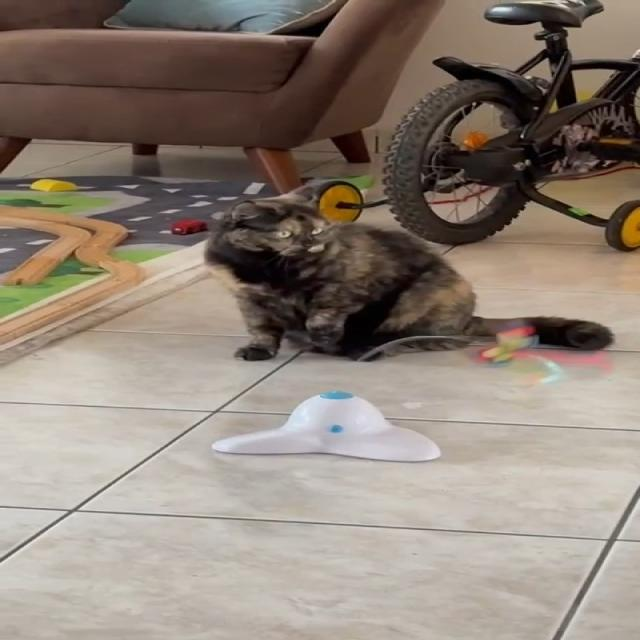authorized: (201, 177, 615, 362)
